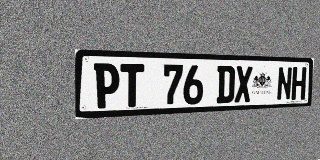6: (183, 65, 204, 105)
7: (161, 64, 183, 106)
D: (216, 65, 235, 103)
H: (291, 67, 307, 100)
N: (276, 67, 292, 101)
P: (94, 63, 119, 109)
T: (120, 64, 144, 108)
X: (234, 66, 252, 103)
